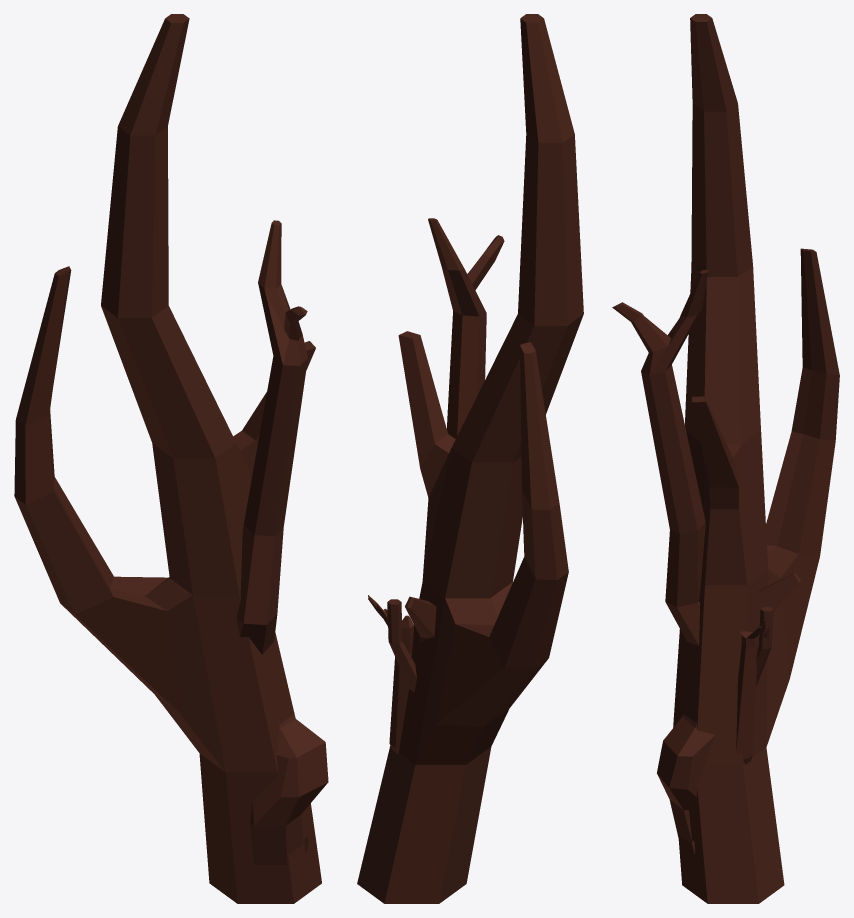
Rendered from Twigs.fbx.
3 renders of one model, left to right at view 1: azimuth 30°, elevation 25°; view 2: azimuth 150°, elevation 25°; view 3: azimuth 270°, elevation 25°, orthographic. The views are drawn at different scales.
Visible parts, largest first — view 1: Twig4, Twig3; view 2: Twig4, Twig3, Twig1, Twig2; view 3: Twig4, Twig3, Twig1, Twig2.
Boxes of the visible parts, x1,y1,x2,y2 form: Twig4: (14, 14, 321, 903); Twig3: (236, 220, 328, 864); Twig4: (357, 14, 583, 903); Twig3: (405, 218, 504, 642); Twig1: (384, 608, 413, 754); Twig2: (368, 595, 416, 692); Twig4: (673, 14, 839, 903); Twig3: (612, 269, 800, 843); Twig1: (691, 626, 761, 854); Twig2: (756, 606, 773, 685).
Size of the model in its own units: 157 by 557 by 140.
